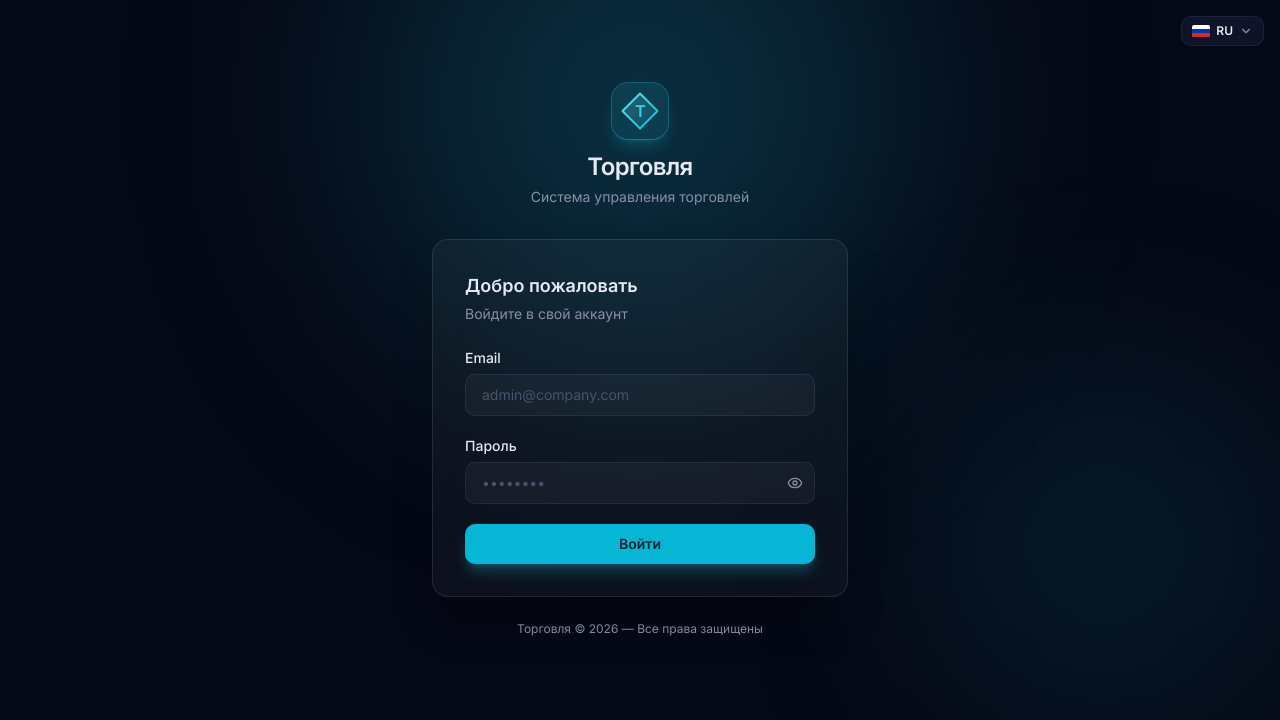
Scenario: LoginPage › показывает ошибку при пустом email
The width and height of the screenshot is (1280, 720).
Click the button "Войти" at (640, 544), box [465,524,815,564]
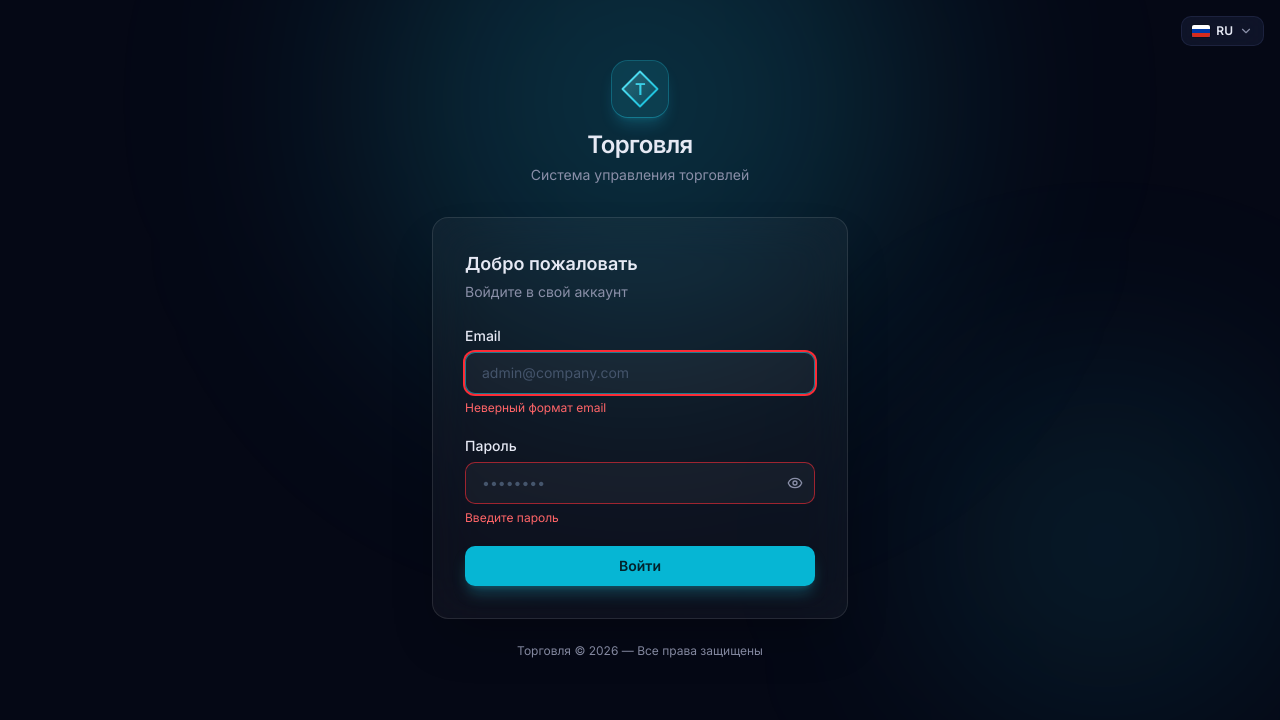
Check: the text "Неверный формат email" is shown, box [465,400,606,415]
